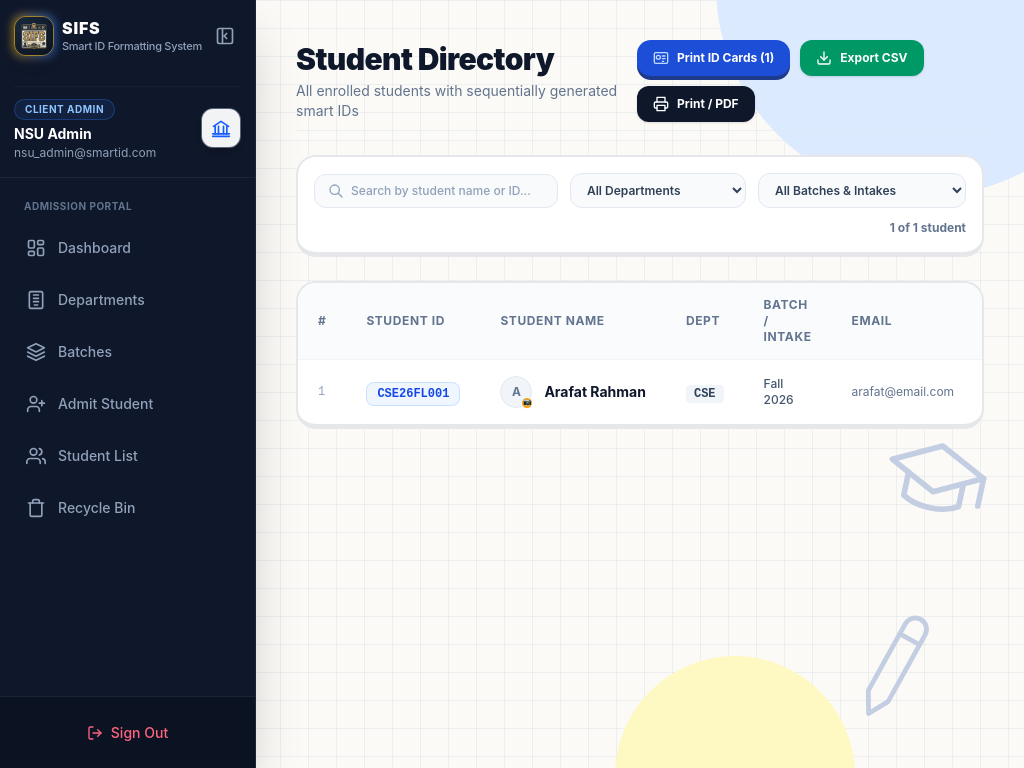
Scenario: Frontend UI Tests: Student Directory (StudentList.jsx) › TC_UI_LIST_06 [Batch Sheet Print Modal]: should open batch print sheet modal with A4 grid
The image size is (1024, 768).
Expected: the text "CSE26FL001" is shown, left=366, top=382, right=460, bottom=406
Click the button "Print ID Cards (1)": (714, 58) left=637, top=40, right=790, bottom=76
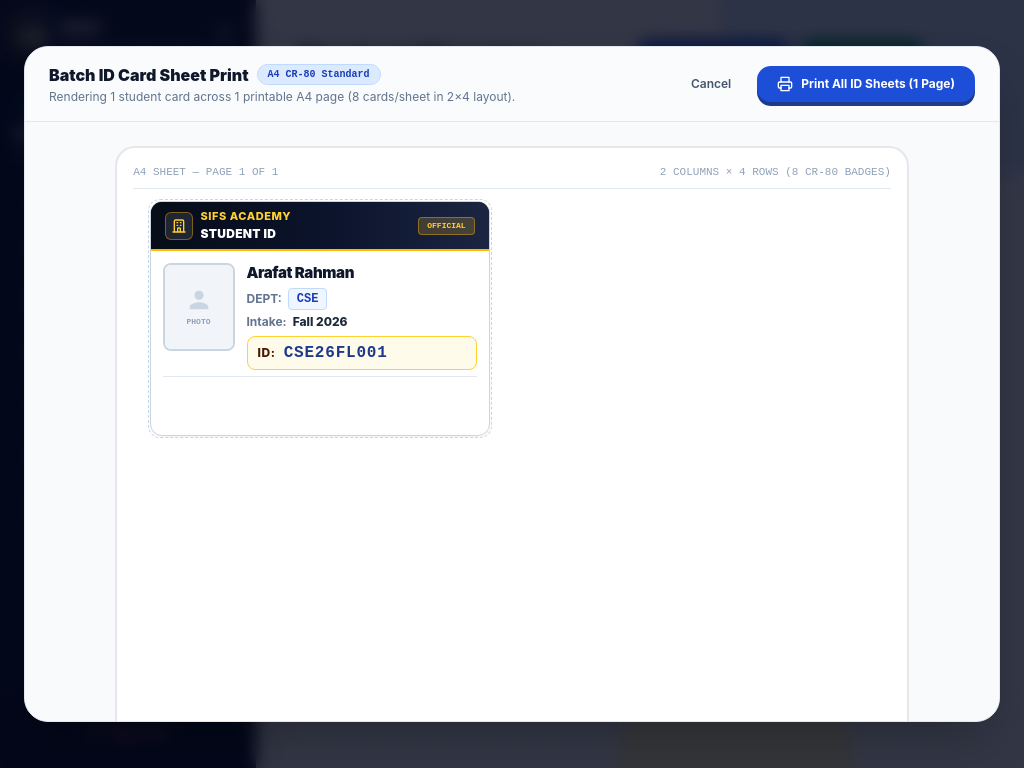
Result: the text "Batch ID Card Sheet Print" is shown at left=49, top=63, right=248, bottom=87
Result: the text "A4 CR-80 Standard" is shown at left=256, top=64, right=380, bottom=86
Result: the button "Print All ID Sheets (1 Page)" is shown at left=757, top=66, right=975, bottom=102
# Dismiss batch modal
Click the button "Cancel": (711, 84) left=675, top=68, right=747, bottom=100
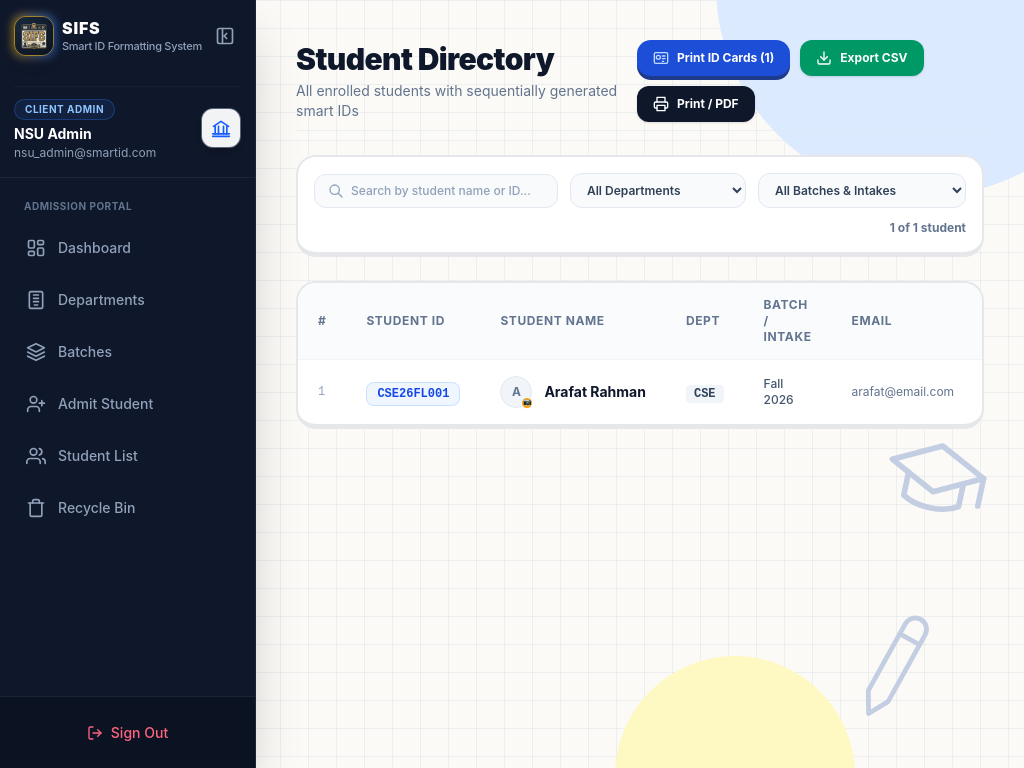
Result: the text "Batch ID Card Sheet Print" is gone
